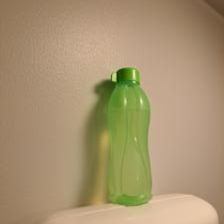bottle: (102, 66, 155, 207)
